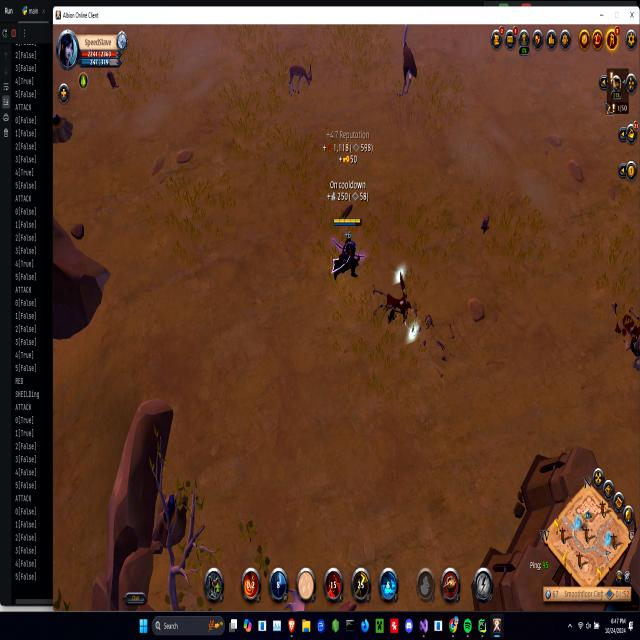ore: (391, 22, 423, 109), (282, 59, 317, 97)
player: (151, 486, 190, 547)
red: (328, 212, 367, 288)
